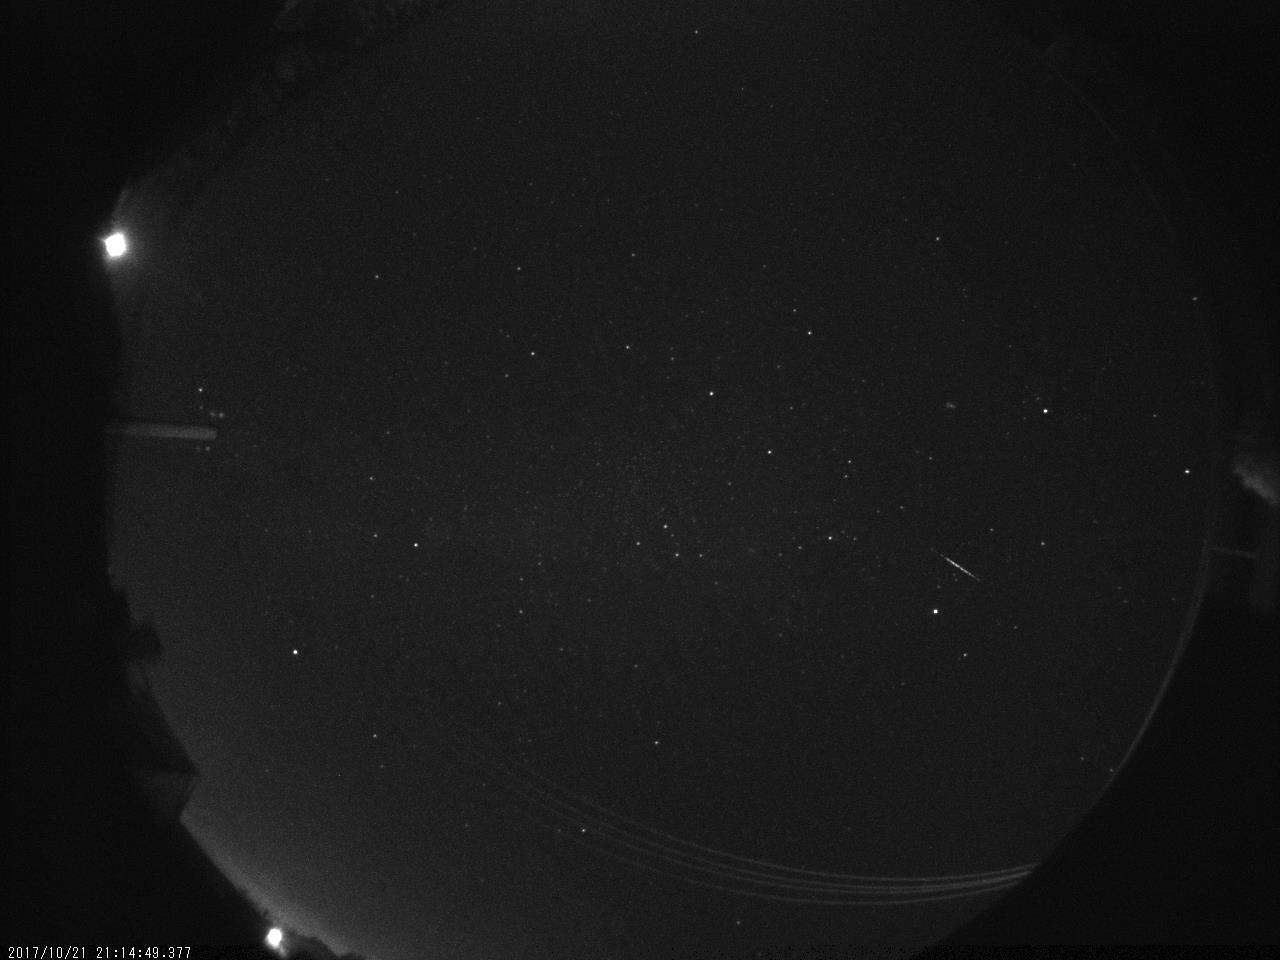Meteor: (939, 549, 982, 582)
